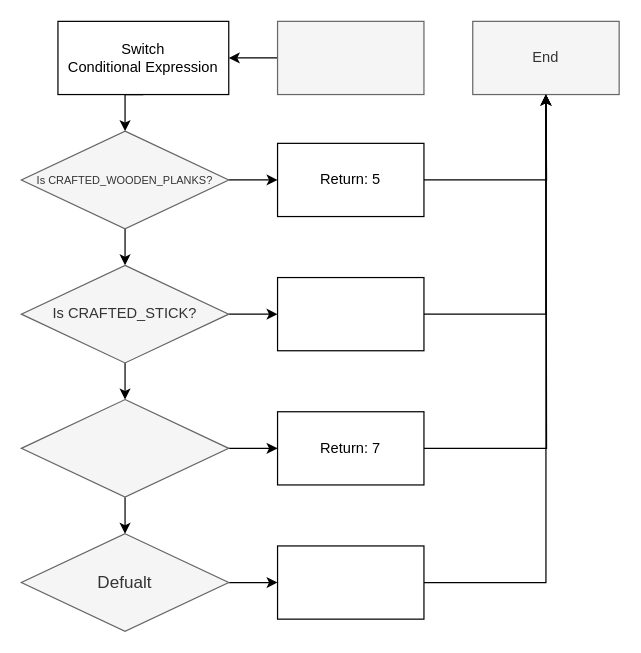
The diagram is 641 pixels wide and 653 high, and some of its shapes have lost their labels. Here are the shapes that lost their labels. From the top down, the centre of each, then its label:
At [350,57]: "Start".
At [350,313]: "Return: 6".
At [124,447]: "Is CRAFTED_IRON_INGOT?".
At [350,582]: "Return: -1".
